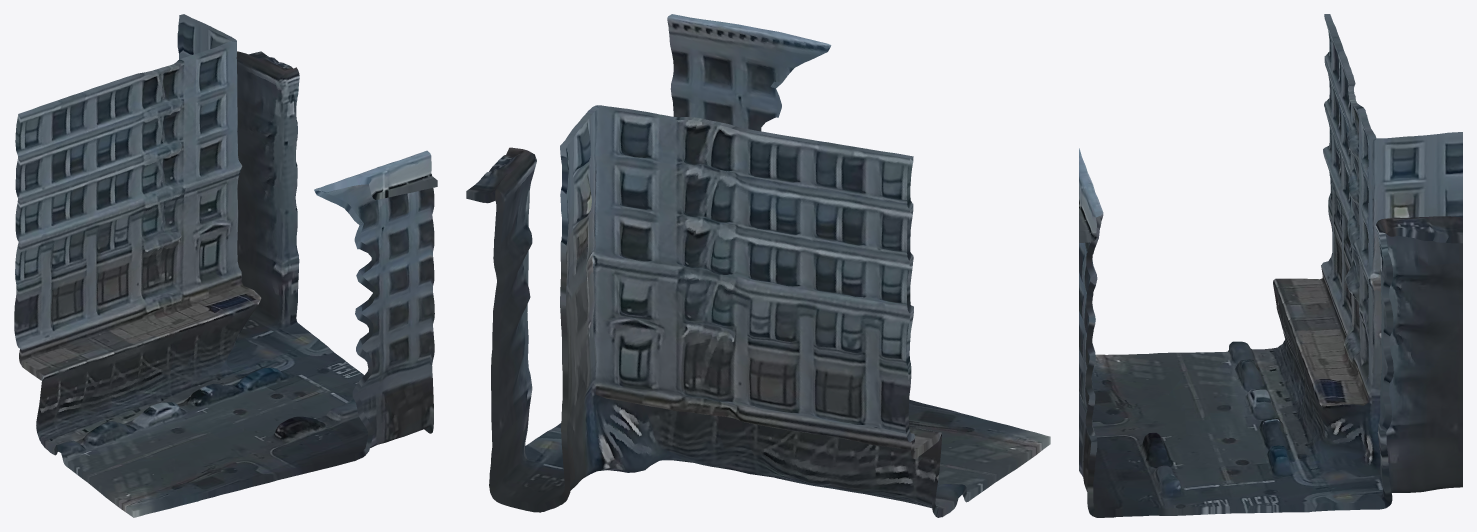
The model's file is z20-167756-405244-h0-yup-uvflip-v3-world.glb.
3 views of the same model, side by side, from view 1: azimuth 30°, elevation 25°; view 2: azimuth 150°, elevation 25°; view 3: azimuth 270°, elevation 25° (orthographic). The views are drawn at different scales.
Bounding box in the file's own units: 30.16 × 30.32 × 30.32.
1 material, 1 textured.
